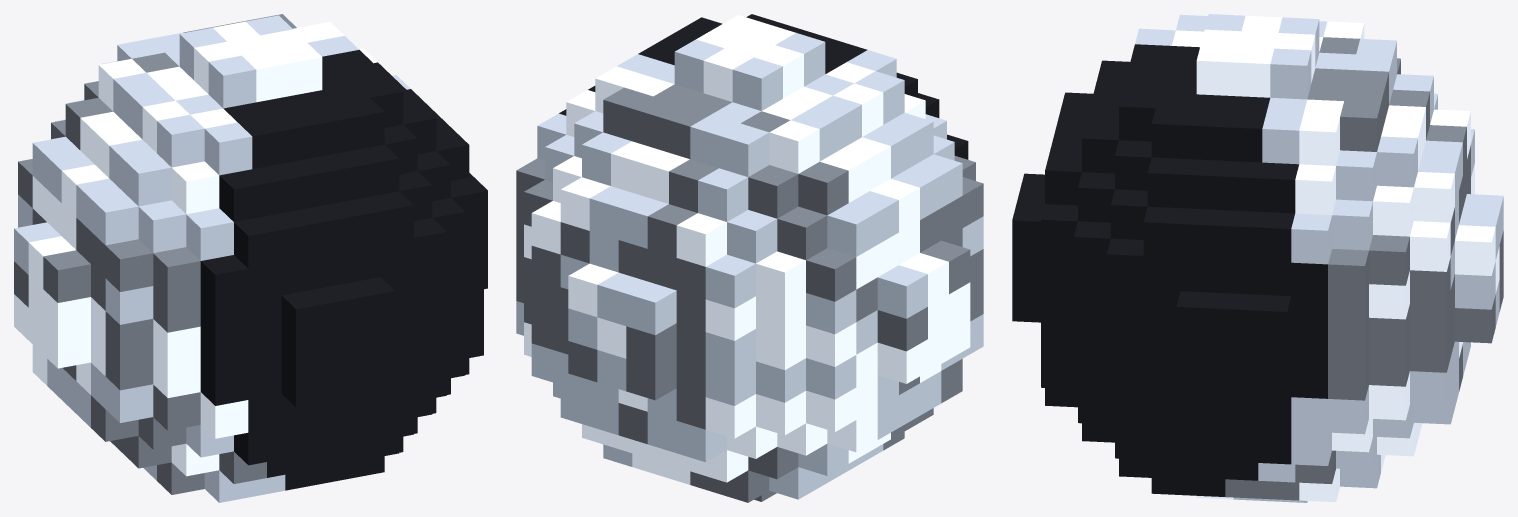
Rendered from voxel-sun.glb.
3 renders of one model, left to right at view 1: azimuth 30°, elevation 25°; view 2: azimuth 150°, elevation 25°; view 3: azimuth 270°, elevation 25°, orthographic. The views are drawn at different scales.
Parts seen in each view (by area): view 1: moon_crescent_dark, moon_crescent_grey, moon_crescent_lit, moon_crescent_crater; view 2: moon_crescent_grey, moon_crescent_lit, moon_crescent_crater, moon_crescent_dark; view 3: moon_crescent_dark, moon_crescent_grey, moon_crescent_lit, moon_crescent_crater.
Part boxes in pixels (<box>): moon_crescent_dark: <box>200,49,487,490</box>; moon_crescent_grey: <box>14,15,410,502</box>; moon_crescent_lit: <box>14,21,377,476</box>; moon_crescent_crater: <box>14,14,296,494</box>; moon_crescent_grey: <box>516,33,983,499</box>; moon_crescent_lit: <box>524,15,970,484</box>; moon_crescent_crater: <box>516,84,983,502</box>; moon_crescent_dark: <box>559,14,968,159</box>; moon_crescent_dark: <box>1012,44,1327,496</box>; moon_crescent_grey: <box>1135,14,1503,502</box>; moon_crescent_lit: <box>1172,15,1499,502</box>; moon_crescent_crater: <box>1225,37,1503,500</box>.
Bounding box in the file's own units: 1.06 × 1.04 × 1.06.
